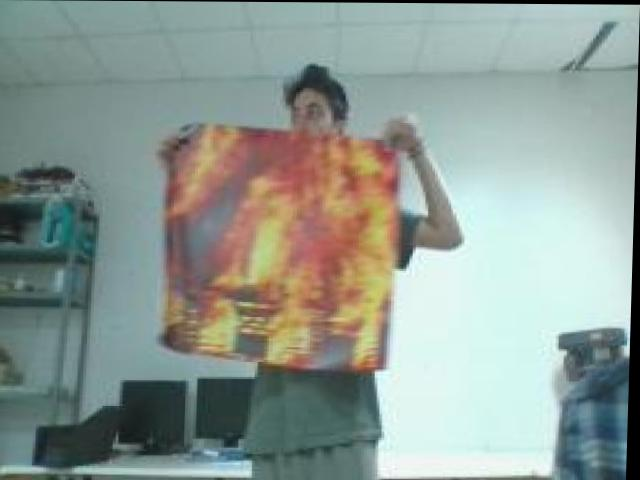fire-poster: (154, 121, 408, 375)
